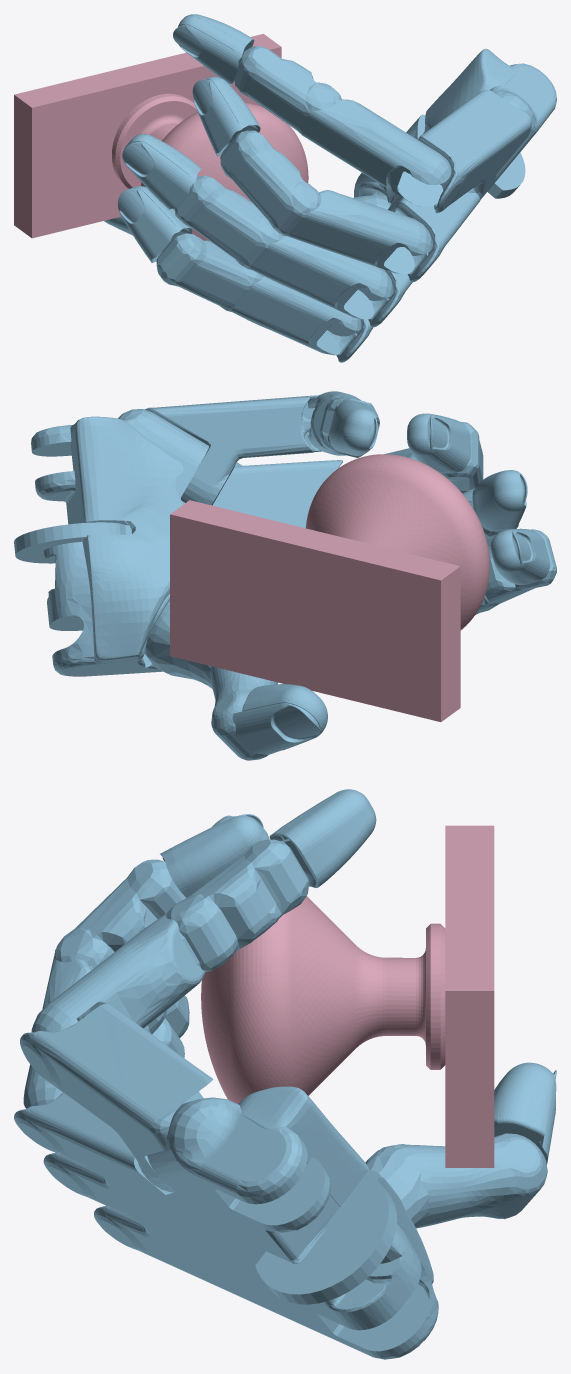
3 renders of one model, top to bottom at view 1: azimuth 30°, elevation 25°; view 2: azimuth 150°, elevation 25°; view 3: azimuth 270°, elevation 25°, orthographic. The views are drawn at different scales.
Visible parts, largest first — view 1: world; view 2: world; view 3: world.
Part boxes in pixels (left/top/right/bottom): world: left=14, top=14, right=556, bottom=362; world: left=14, top=391, right=556, bottom=760; world: left=14, top=789, right=556, bottom=1359.
Size of the model in its own units: 0.183 by 0.1159 by 0.1389.
